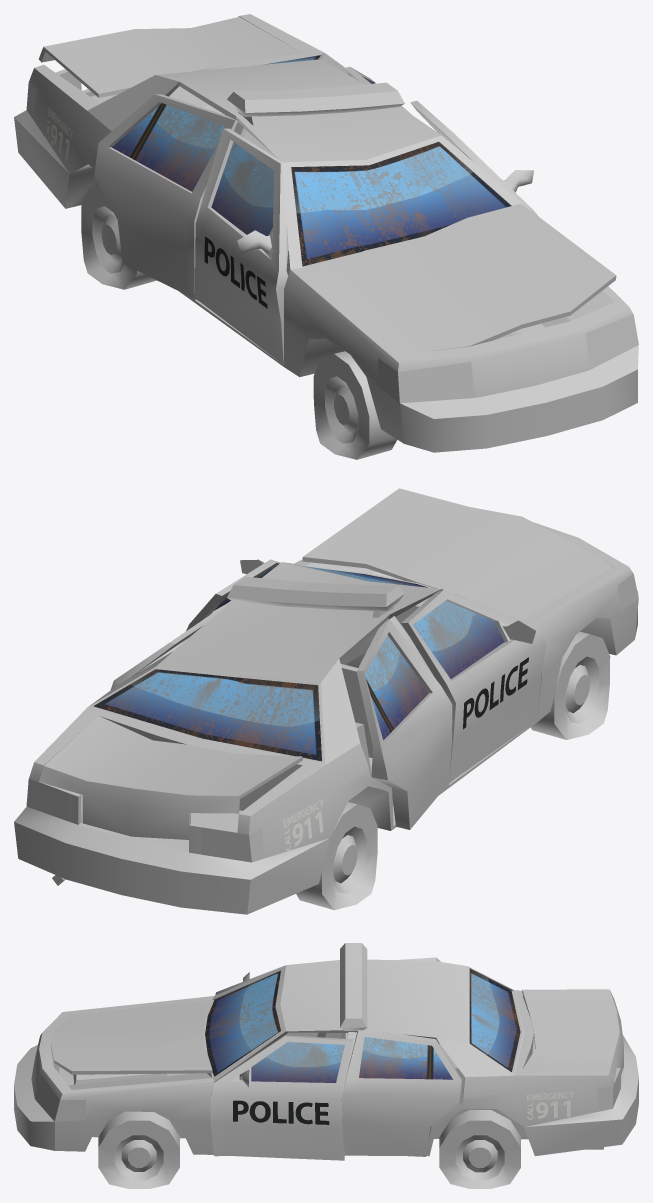
File: Veh_Police_B.FBX
3 views of the same model, one above another, from view 1: azimuth 30°, elevation 25°; view 2: azimuth 150°, elevation 25°; view 3: azimuth 270°, elevation 25° (orthographic). The views are drawn at different scales.
Parts seen in each view (by area): view 1: Veh_Police_B, hood, glass_windshieldFront, door_frontR, door_backR, trunk, wheel_frontR, glass_backR, glass_frontR, wheel_backR, light_frontR, light_frontL (+3 smaller); view 2: Veh_Police_B, hood, trunk, glass_windshieldRear, door_frontR, door_backR, wheel_frontR, wheel_backR, glass_frontR, glass_backR, light_rearR, light_sirenBlue (+4 smaller); view 3: Veh_Police_B, door_frontL, hood, door_backL, trunk, wheel_backL, wheel_frontL, glass_windshieldFront, glass_windshieldRear, glass_frontL, glass_backL, light_frontL (+4 smaller).
Boxes of the visible parts, x1,y1,x2,y2 form: Veh_Police_B: [14, 14, 638, 452]; hood: [303, 203, 616, 354]; glass_windshieldFront: [291, 142, 510, 266]; door_frontR: [195, 128, 287, 364]; door_backR: [94, 94, 237, 299]; trunk: [39, 17, 302, 97]; wheel_frontR: [313, 351, 396, 459]; glass_backR: [112, 103, 226, 191]; glass_frontR: [211, 142, 274, 235]; wheel_backR: [81, 185, 156, 289]; light_frontR: [377, 358, 475, 403]; light_frontL: [586, 314, 638, 369]; Veh_Police_B: [14, 522, 638, 914]; hood: [302, 488, 614, 620]; trunk: [39, 716, 302, 839]; glass_windshieldRear: [94, 669, 321, 761]; door_frontR: [401, 590, 546, 783]; door_backR: [356, 619, 452, 829]; wheel_frontR: [530, 631, 610, 739]; wheel_backR: [296, 802, 377, 910]; glass_frontR: [413, 600, 504, 678]; glass_backR: [365, 635, 428, 739]; light_rearR: [201, 827, 263, 862]; light_sirenBlue: [330, 584, 404, 606]; Veh_Police_B: [14, 959, 638, 1156]; door_frontL: [210, 1035, 352, 1160]; hood: [50, 1000, 212, 1074]; door_backL: [342, 1030, 461, 1156]; trunk: [522, 989, 623, 1081]; wheel_backL: [439, 1110, 520, 1188]; wheel_frontL: [98, 1111, 179, 1188]; glass_windshieldFront: [205, 971, 280, 1076]; glass_windshieldRear: [469, 969, 520, 1071]; glass_frontL: [251, 1042, 344, 1082]; glass_backL: [359, 1037, 452, 1079]; light_frontL: [35, 1075, 85, 1121].
Size of the model in its own units: 212 by 158 by 526.
